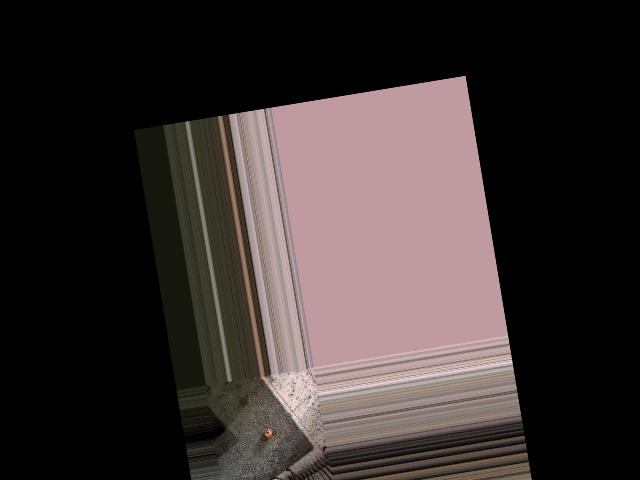onion: (263, 427, 274, 439)
